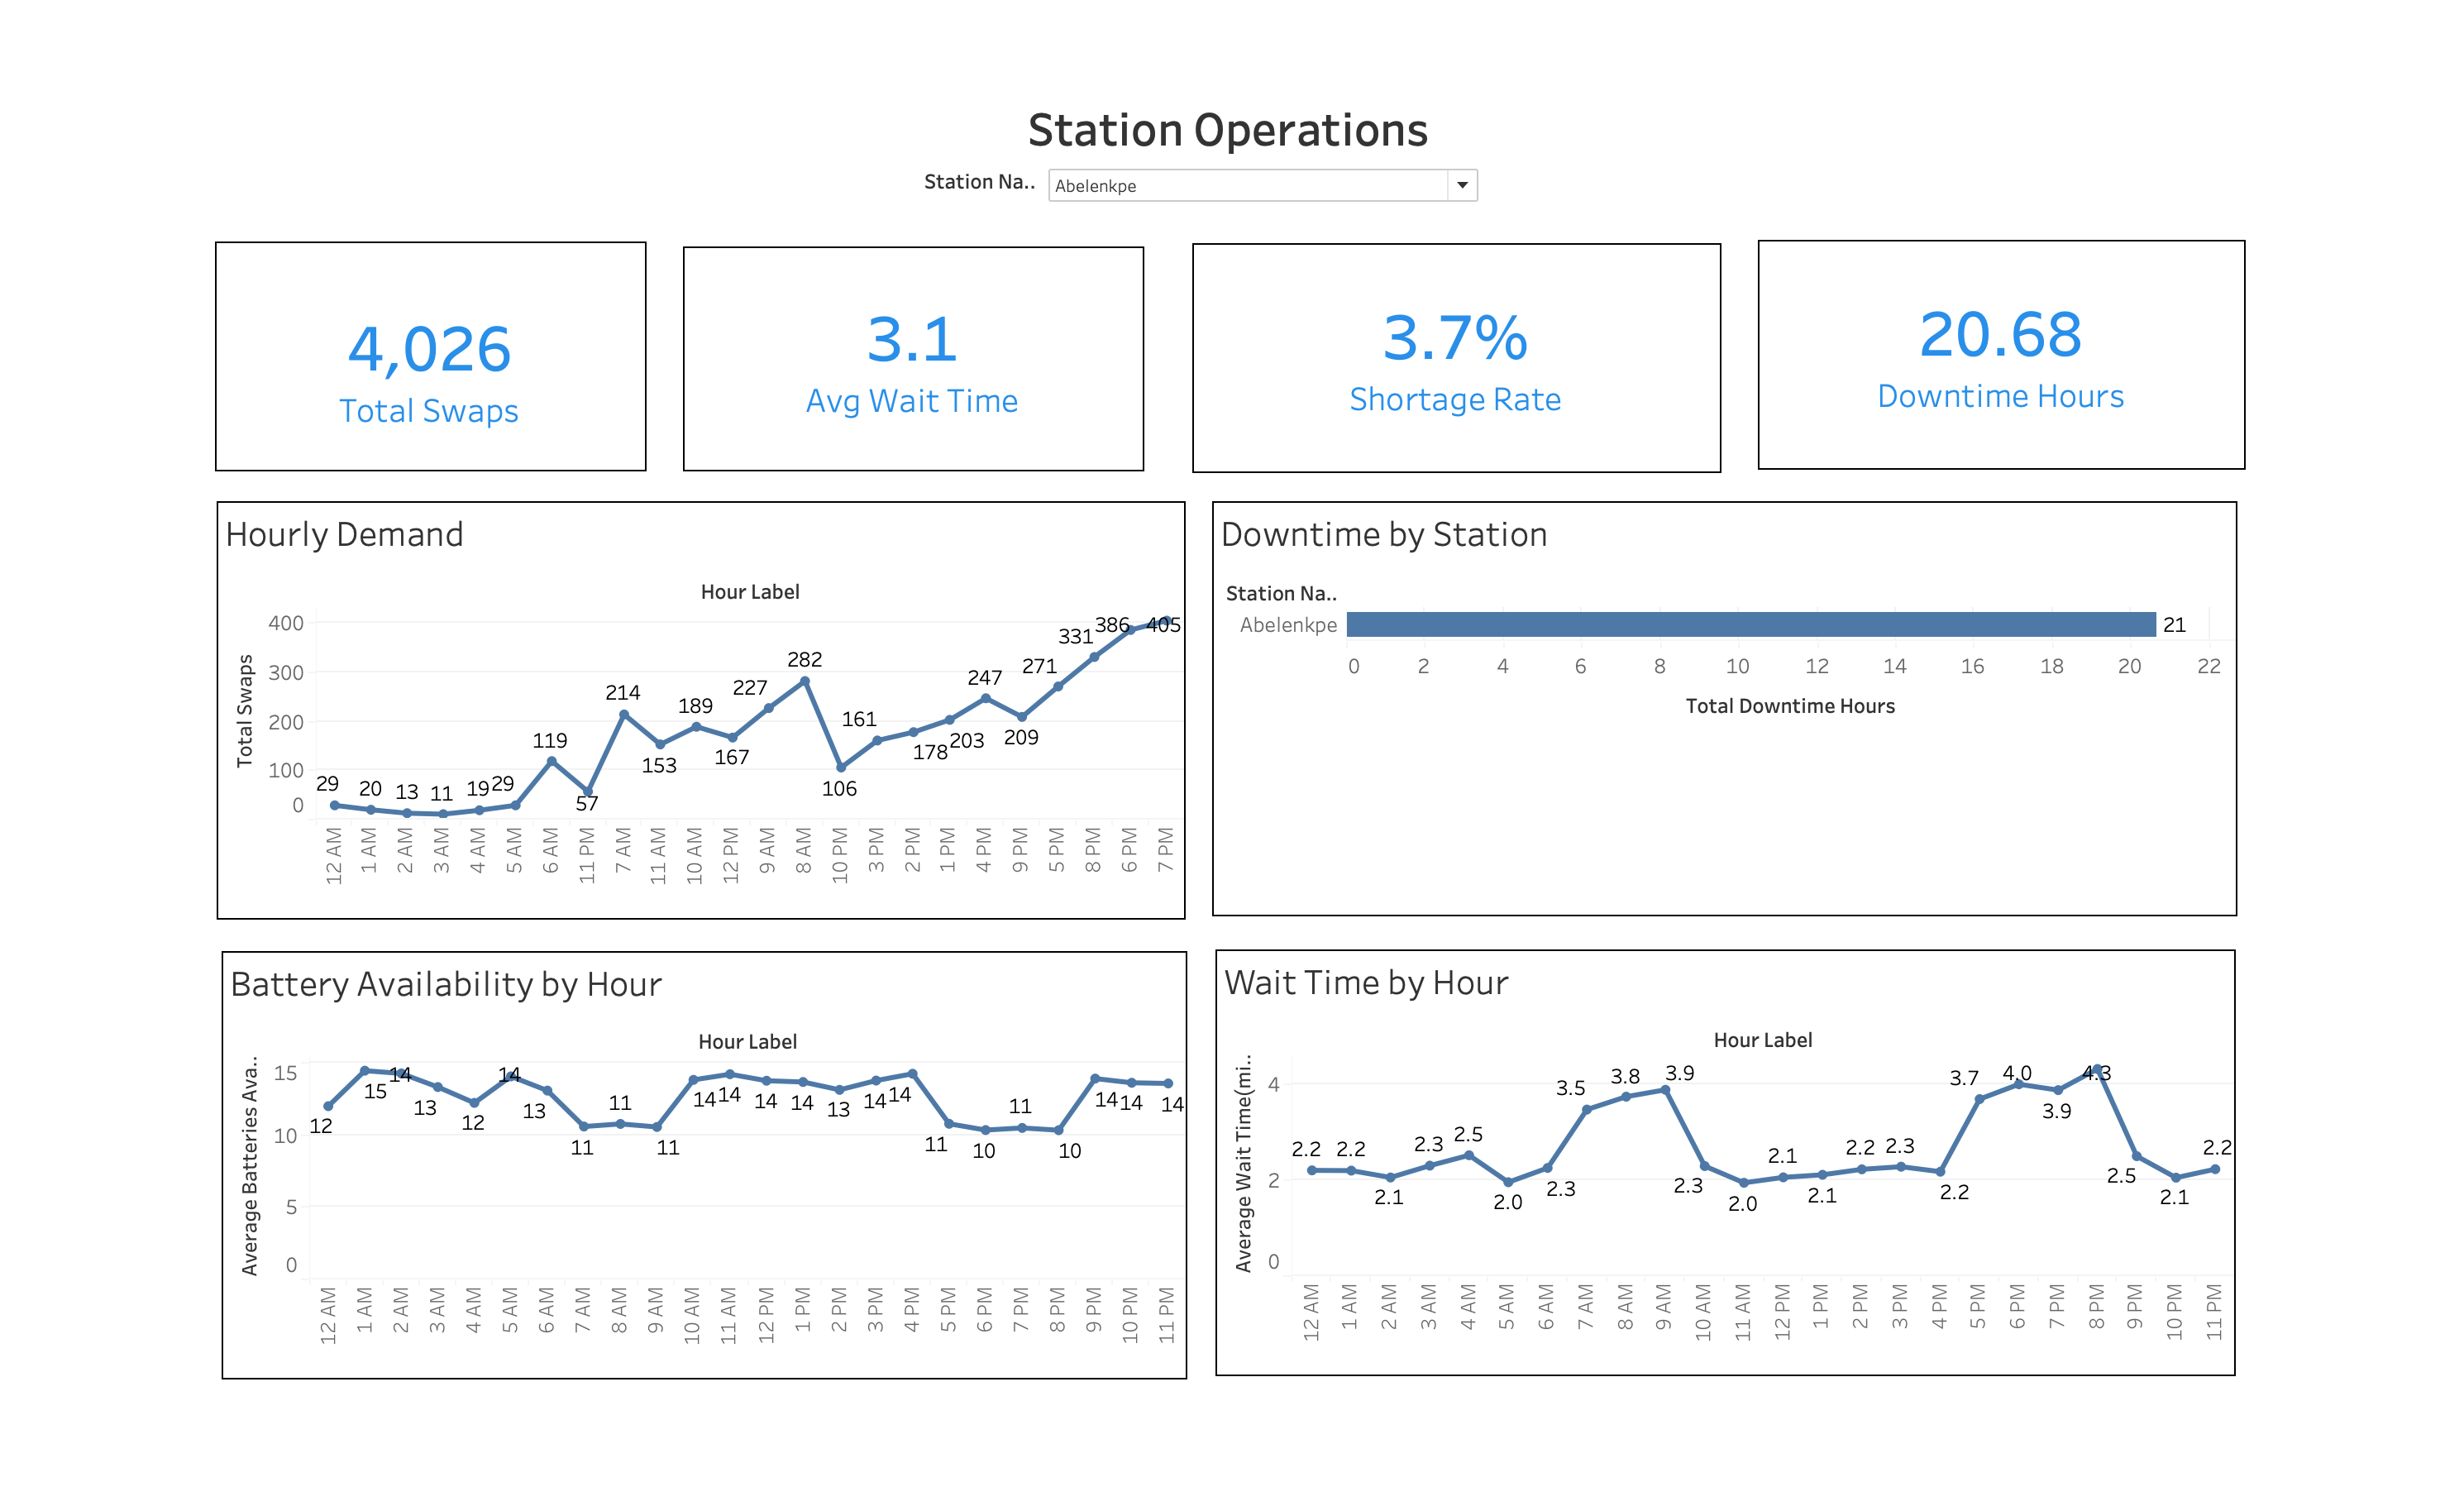

What the dashboard file says about the page in this screenshot:
{"tool":"tableau","page":{"name":"Station Operations","canvas":[1272,803],"ordinal":2},"visuals":[{"type":"title","box":[8,8,1256,40]},{"type":"filter","title":"Battery Availability by Hour ","param":"[federated.1dofqpe05q9hcf11nmjnx0py8qc8].[none:station_name:nk]","box":[452,50,338,31]},{"type":"worksheet","title":"KPI-Downtime","mark":"Text","box":[956,96,295,139]},{"type":"worksheet","title":"KPI-Total Swaps","mark":"Text","box":[23,97,261,139]},{"type":"worksheet","title":"KPI-Battery Shortage Rate","mark":"Text","box":[614,98,320,139]},{"type":"worksheet","title":"KPI-Average Wait Time","mark":"Text","box":[306,100,279,136]},{"type":"worksheet","title":"Hourly Demand","mark":"Line","rows":["Calculation_3158453521510405"],"cols":["Calculation_3158454244143118"],"box":[24,254,586,253]},{"type":"worksheet","title":"Downtime by Station","mark":"Automatic","rows":["station_name"],"cols":["Calculation_3158453528891404"],"box":[626,254,620,251]},{"type":"worksheet","title":"Wait Time by Hour","mark":"Line","rows":["Calculation_3158453521936391"],"cols":["Calculation_3158454244143118"],"box":[628,525,617,258]},{"type":"worksheet","title":"Battery Availability by Hour ","mark":"Line","rows":["Calculation_3158453529346061"],"cols":["Calculation_3158454244143118"],"box":[27,526,584,259]}]}

Visuals, with their boxes on the page's 1272x803 design canvas (x1, y1, x2, y2). These are canvas units, not pixel positions in the 2464x1487 screenshot, which may show the page scaled, cropped or inside an application window:
title: l=8, t=8, r=1264, b=48
"Battery Availability by Hour " filter: l=452, t=50, r=790, b=81
"KPI-Downtime" worksheet (Text marks): l=956, t=96, r=1251, b=235
"KPI-Total Swaps" worksheet (Text marks): l=23, t=97, r=284, b=236
"KPI-Battery Shortage Rate" worksheet (Text marks): l=614, t=98, r=934, b=237
"KPI-Average Wait Time" worksheet (Text marks): l=306, t=100, r=585, b=236
"Hourly Demand" worksheet (Line marks): l=24, t=254, r=610, b=507
"Downtime by Station" worksheet: l=626, t=254, r=1246, b=505
"Wait Time by Hour" worksheet (Line marks): l=628, t=525, r=1245, b=783
"Battery Availability by Hour " worksheet (Line marks): l=27, t=526, r=611, b=785
